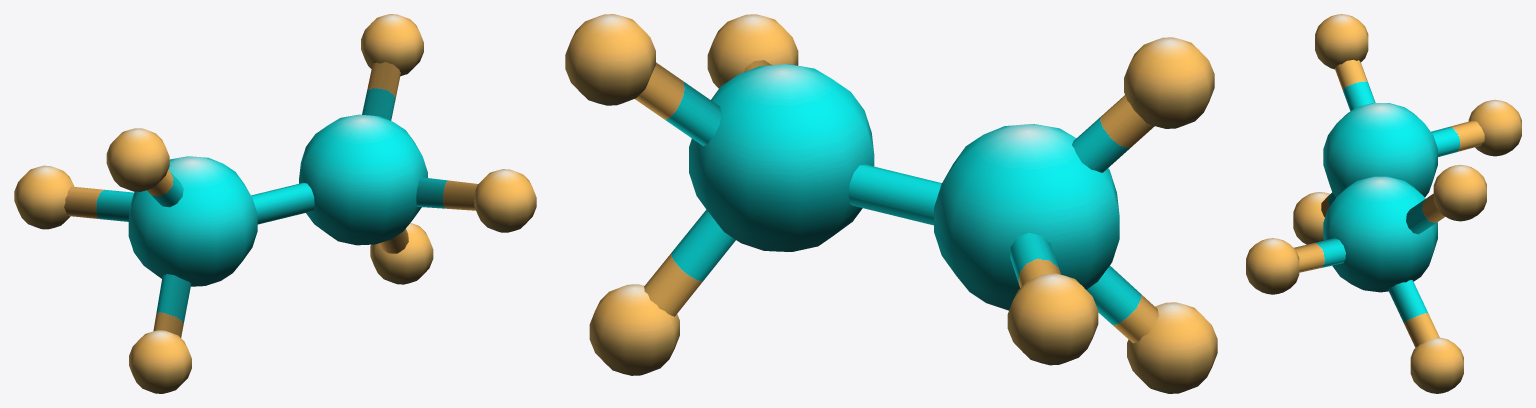
File: Ethane.dae
3 views of the same model, side by side, from view 1: azimuth 30°, elevation 25°; view 2: azimuth 150°, elevation 25°; view 3: azimuth 270°, elevation 25° (orthographic). The views are drawn at different scales.
Visible parts, largest first — view 1: polySurface33; view 2: polySurface33; view 3: polySurface33.
Boxes of the visible parts, box(x1,y1,x2,y2) form: polySurface33: box(14, 14, 536, 393); polySurface33: box(565, 14, 1217, 393); polySurface33: box(1246, 14, 1521, 393).
Bounding box in the file's own units: 5.28 × 3.48 × 3.66.
Materials: 1 (1 with a texture image).
